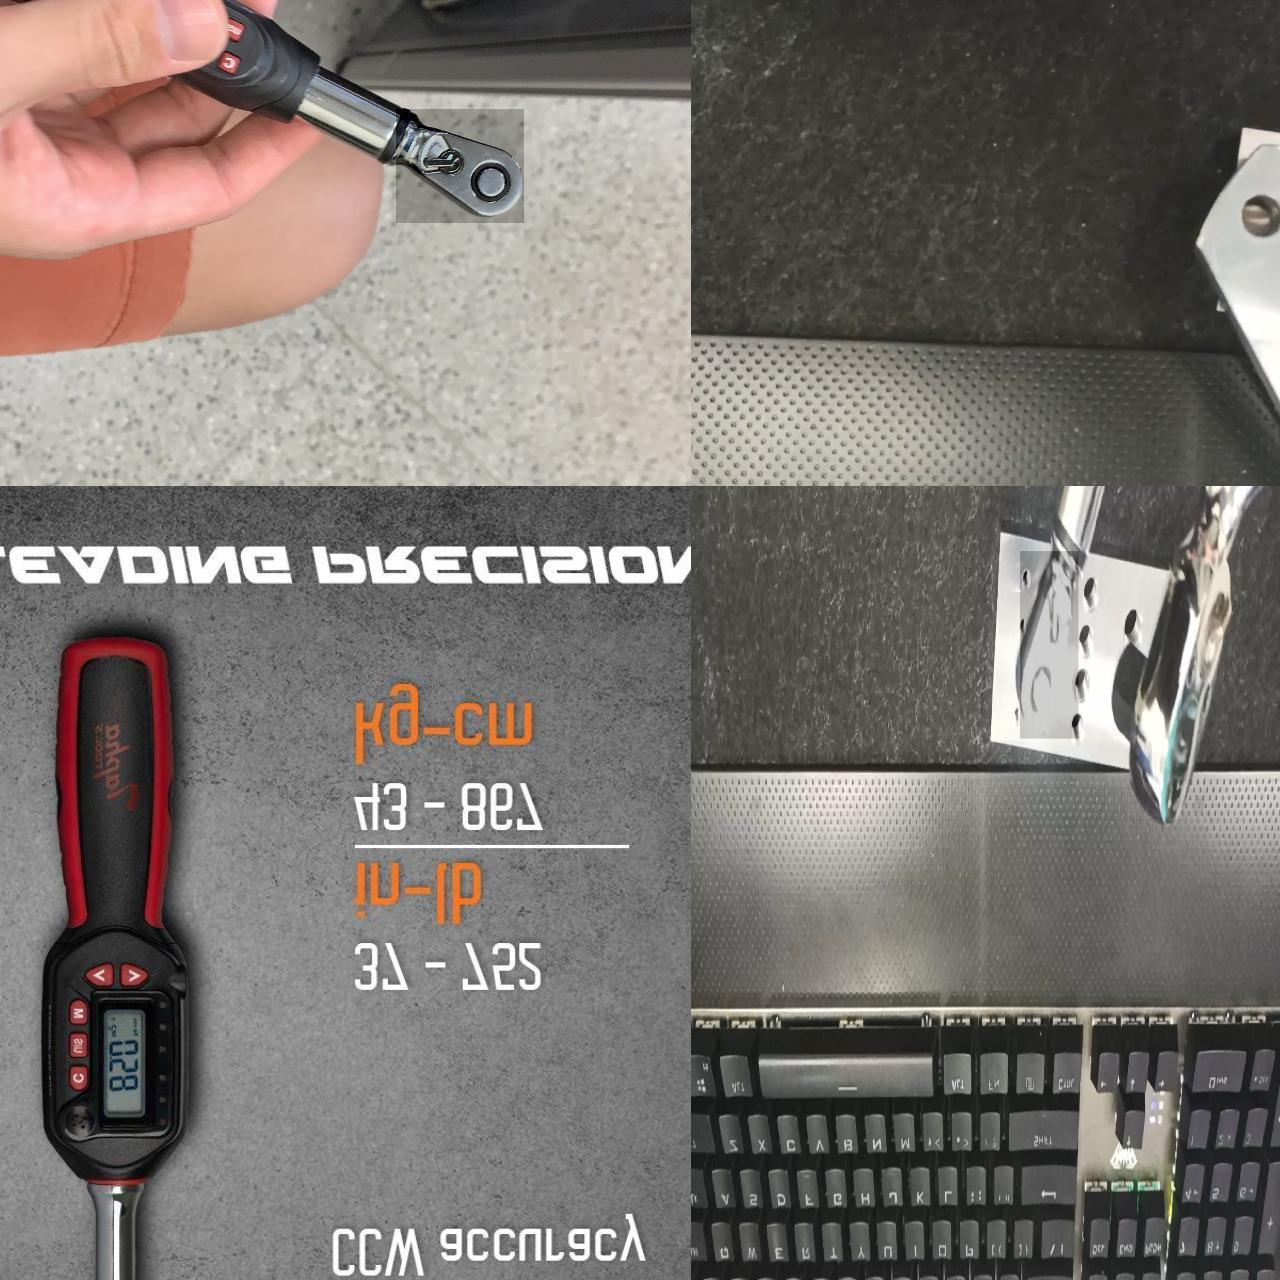Tool: (1116, 486, 1248, 823), (396, 109, 524, 223), (1020, 551, 1078, 739)
hole: (1242, 179, 1280, 241), (1082, 575, 1104, 611), (1072, 668, 1096, 700), (1080, 620, 1096, 659), (1085, 738, 1086, 738)
